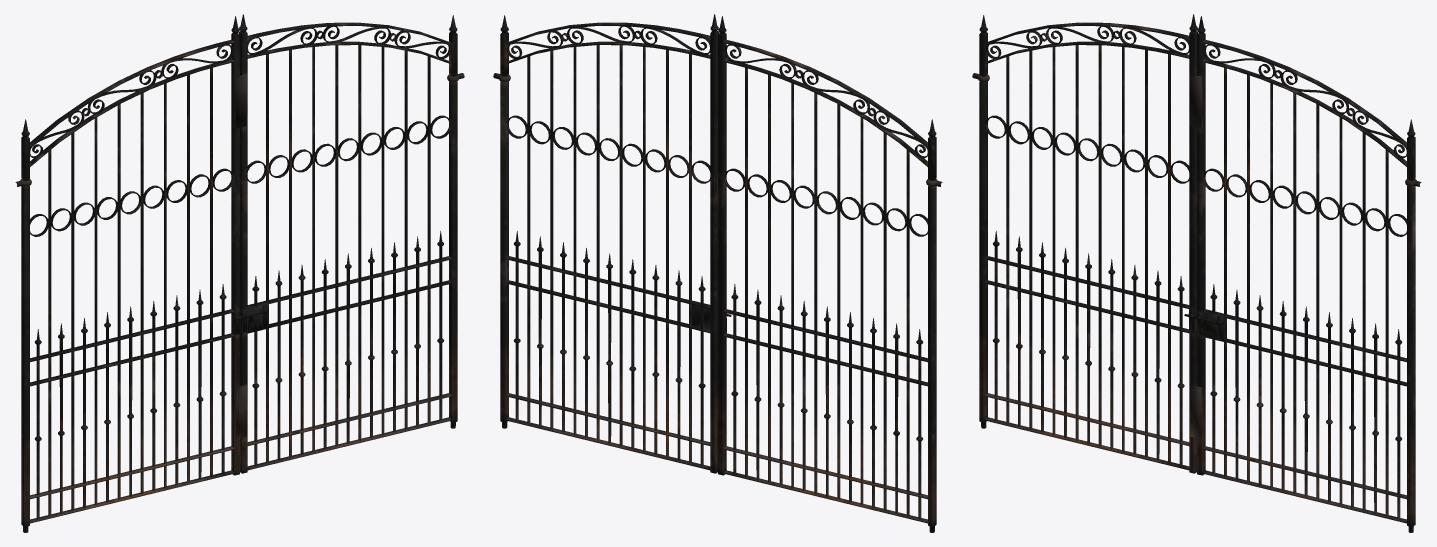
Rendered from large_iron_gate_lod1.glb.
The picture shows the model from 3 angles, left to right: view 1: azimuth 30°, elevation 25°; view 2: azimuth 150°, elevation 25°; view 3: azimuth 330°, elevation 25°; orthographic projection.
Visible parts, largest first — view 1: large_iron_gate_right_door; view 2: large_iron_gate_right_door; view 3: large_iron_gate_right_door.
Boxes of the visible parts, <box> form: large_iron_gate_right_door: <box>15,14,464,532</box>; large_iron_gate_right_door: <box>493,14,942,532</box>; large_iron_gate_right_door: <box>972,14,1421,532</box>.
Bounding box in the file's own units: 2.95 × 2.93 × 0.0972.
1 material, 1 textured.
